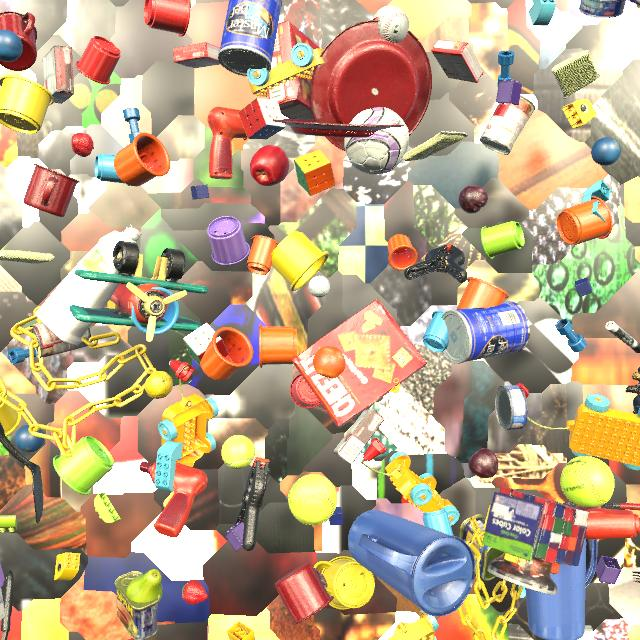ycb_002_master_chef_can: (441, 301, 530, 364), (218, 0, 282, 77)
ycb_003_cracker_box: (292, 299, 427, 428), (268, 20, 321, 120)
ycb_004_sugar_box: (577, 625, 594, 640), (0, 588, 5, 621)
ycb_005_tomato_soup_can: (480, 95, 535, 155), (30, 323, 91, 358)
ycb_007_tuna_fish_can: (495, 385, 528, 431), (579, 0, 626, 18)
ycb_008_pudding_box: (333, 409, 384, 464), (43, 45, 74, 104)
ycb_009_gelatin_box: (431, 39, 484, 83), (173, 42, 221, 68)
ycb_010_potted_meat_can: (115, 571, 160, 640), (459, 514, 504, 581)
ycb_012_strawberry: (182, 580, 208, 605), (71, 133, 94, 157)
ycb_013_apple: (250, 145, 289, 186), (128, 638, 135, 640)
ycb_014_lemon: (145, 371, 173, 399)
ycb_016_pear: (126, 569, 163, 603)
ycb_017_orange: (313, 346, 346, 378)
ycb_018_plum: (469, 448, 499, 478), (459, 185, 488, 214)
